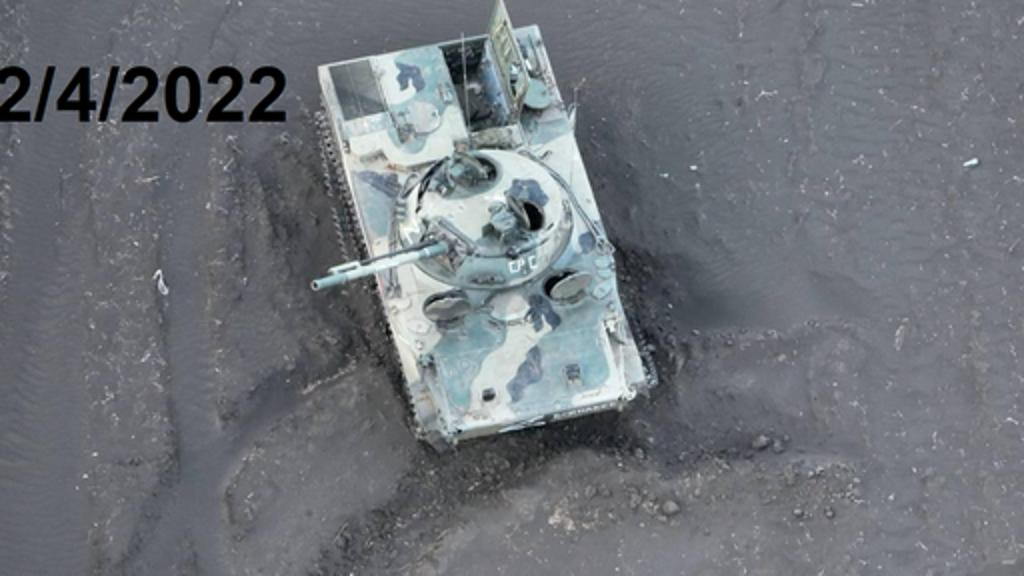APC-IFV: (300, 2, 674, 464)
